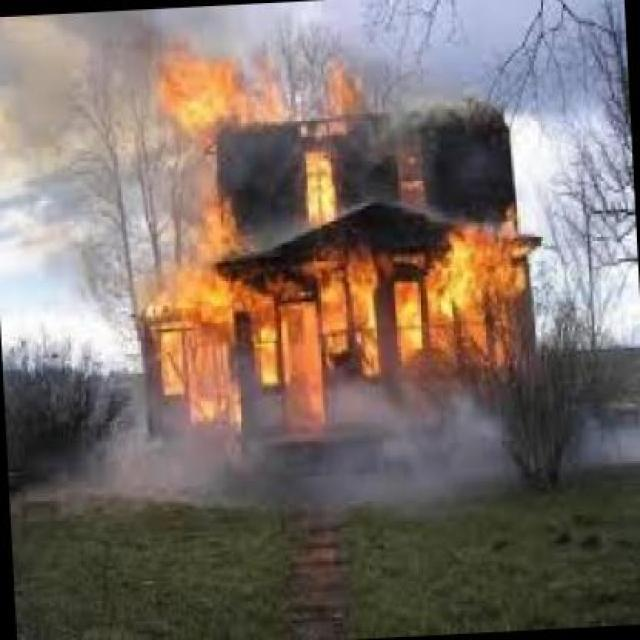Fire: (128, 218, 540, 426), (152, 52, 304, 156), (309, 59, 366, 146), (291, 140, 342, 232)
Smoke: (5, 22, 156, 204), (322, 382, 524, 516), (51, 416, 238, 522), (72, 156, 235, 227)
